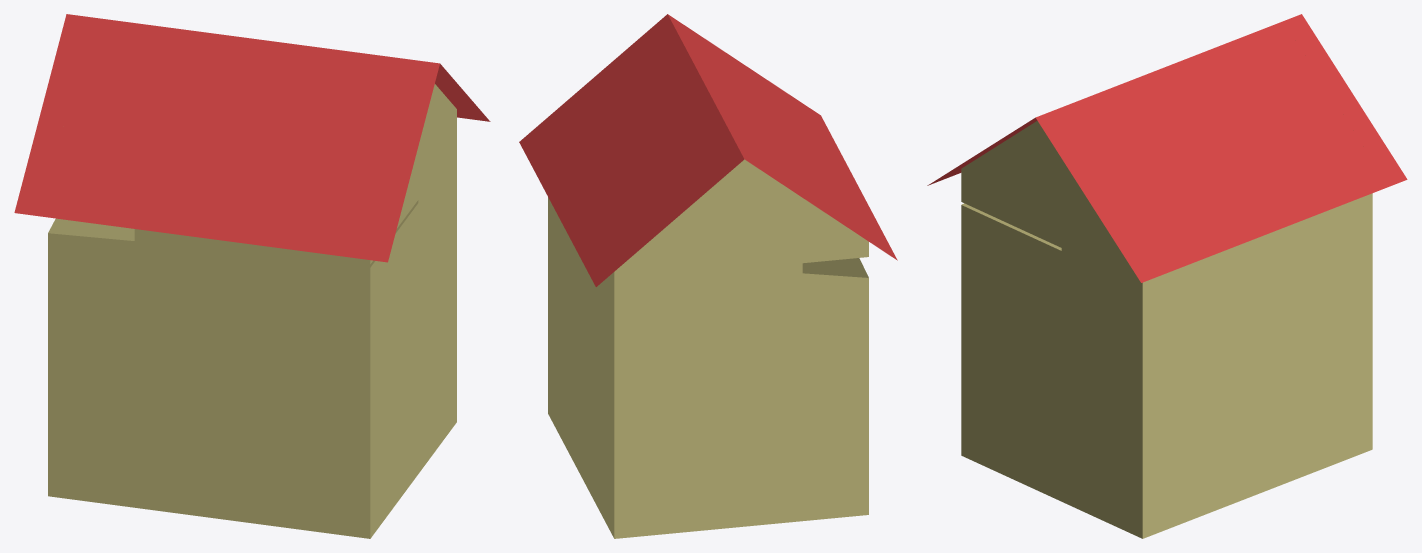
3 renders of one model, left to right at view 1: azimuth 30°, elevation 25°; view 2: azimuth 150°, elevation 25°; view 3: azimuth 270°, elevation 25°, orthographic. The views are drawn at different scales.
Size of the model in its own units: 14.48 by 14.56 by 12.94.
